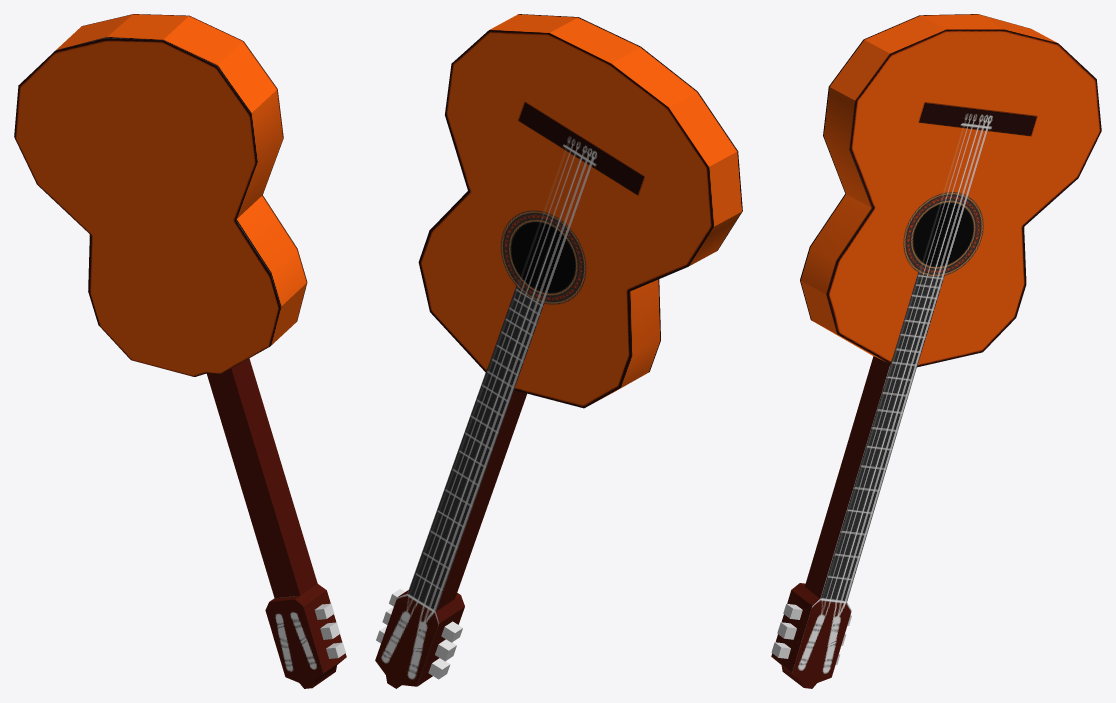
File: Guitarra2_000006.obj
3 renders of one model, left to right at view 1: azimuth 30°, elevation 25°; view 2: azimuth 210°, elevation 25°; view 3: azimuth 270°, elevation 25°, orthographic. The views are drawn at different scales.
Visible parts, largest first — view 1: g2_pPlane4.001; view 2: g2_pPlane4.001; view 3: g2_pPlane4.001.
Part boxes in pixels (x1,y1,x2,y2): g2_pPlane4.001: [14, 14, 346, 688]; g2_pPlane4.001: [375, 14, 742, 688]; g2_pPlane4.001: [771, 14, 1101, 688].
Bounding box in the file's own units: 3.84 × 11.99 × 5.75.
